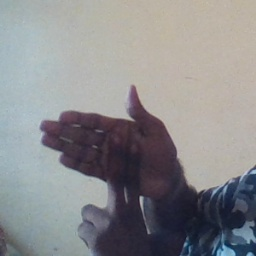N: (29, 80, 169, 250)
